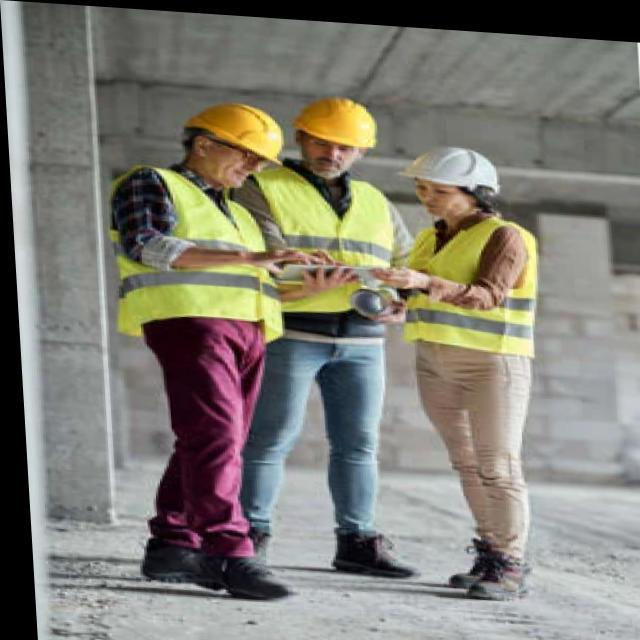boots: (207, 516, 427, 587), (141, 534, 302, 604), (441, 536, 542, 612)
helmet: (280, 88, 385, 194), (177, 98, 292, 193), (398, 141, 509, 218)
vest: (104, 163, 301, 345), (240, 160, 412, 332), (384, 203, 553, 367)
